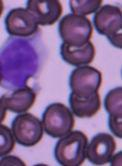L: (0, 34, 47, 90)
